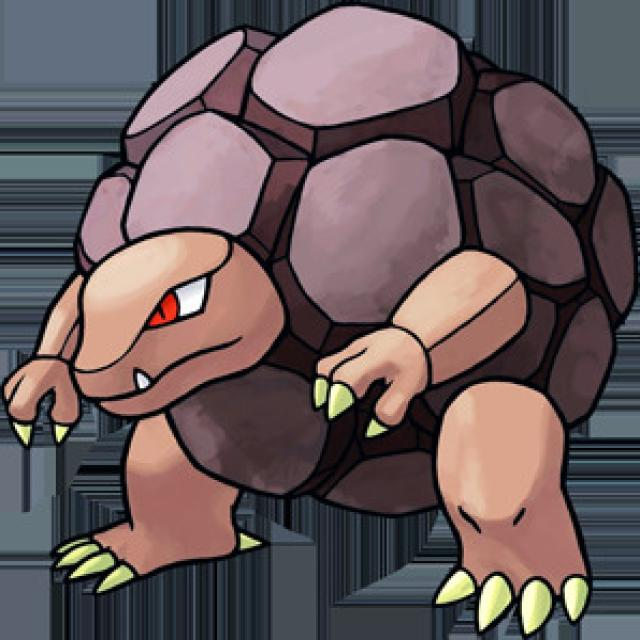Golem: (7, 3, 638, 636)
